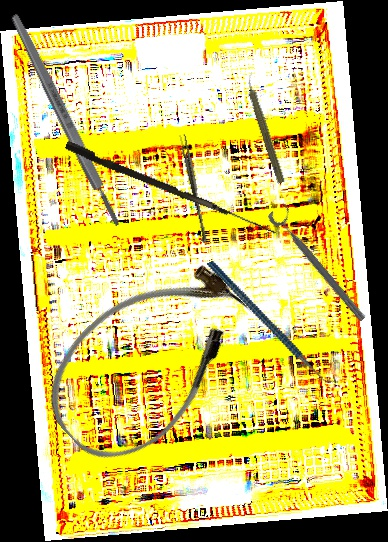Cannula: (23, 238, 273, 483)
Chopper: (206, 233, 341, 412)
Fixation Ring: (265, 201, 376, 325)
Handpiece: (240, 71, 290, 185)
Hook Surgical: (63, 140, 280, 235)
Scalpel Handle: (8, 11, 124, 229)
Tissue Forceps: (177, 133, 211, 244)
